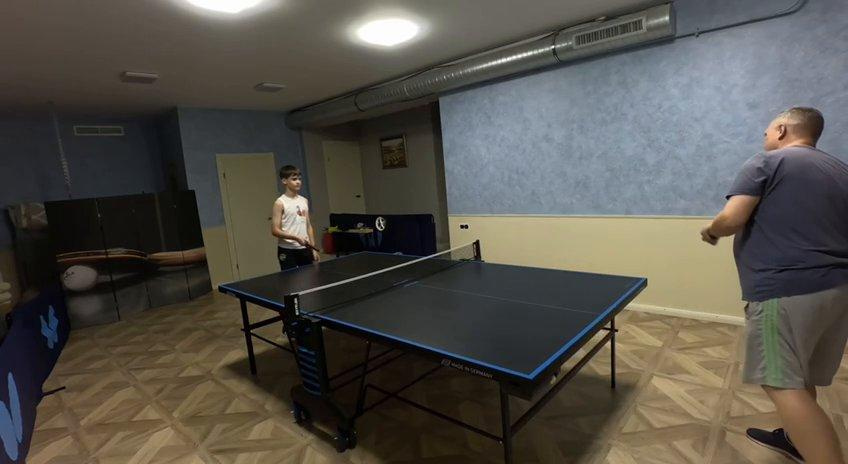Net: (283, 240, 481, 321)
Player1: (271, 165, 319, 268)
Player2: (701, 108, 847, 463)
Table: (222, 253, 640, 377)
